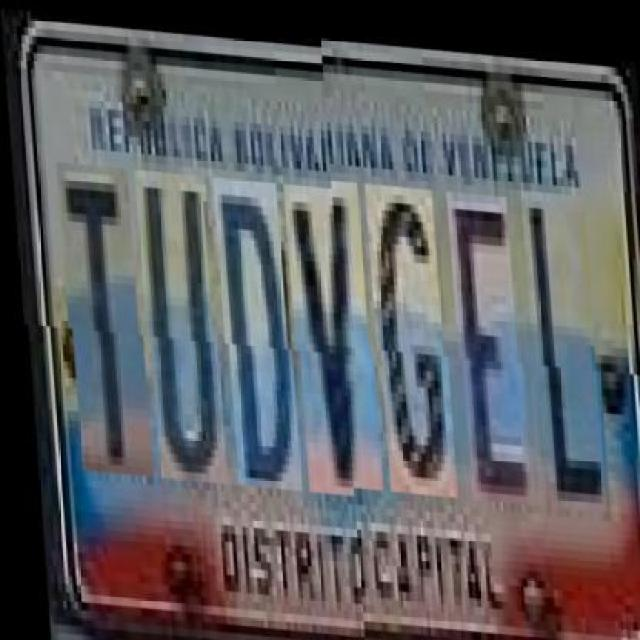d: (214, 173, 295, 485)
e: (448, 191, 526, 503)
g: (366, 185, 451, 497)
l: (522, 188, 604, 510)
t: (58, 160, 145, 474)
u: (135, 167, 220, 481)
v: (285, 178, 377, 492)
